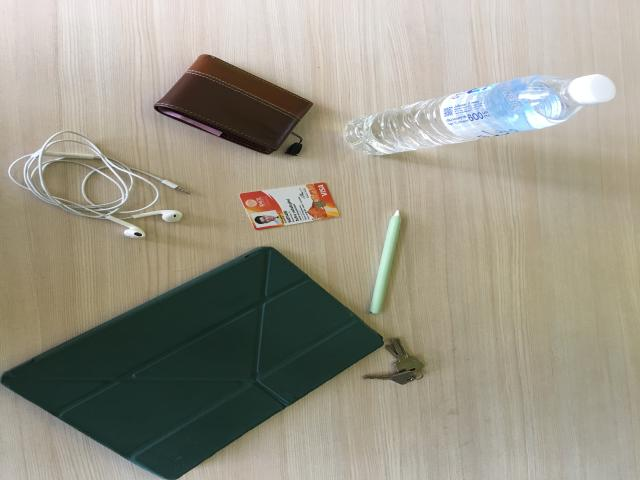Wallet: (154, 59, 313, 158)
bottle: (345, 75, 618, 158)
wire: (9, 132, 183, 240), (365, 339, 426, 385)
